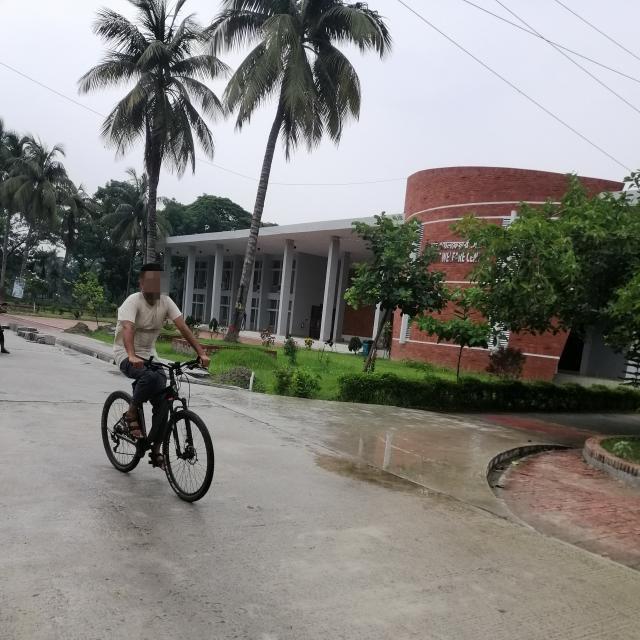Bicycle: (95, 351, 238, 517)
